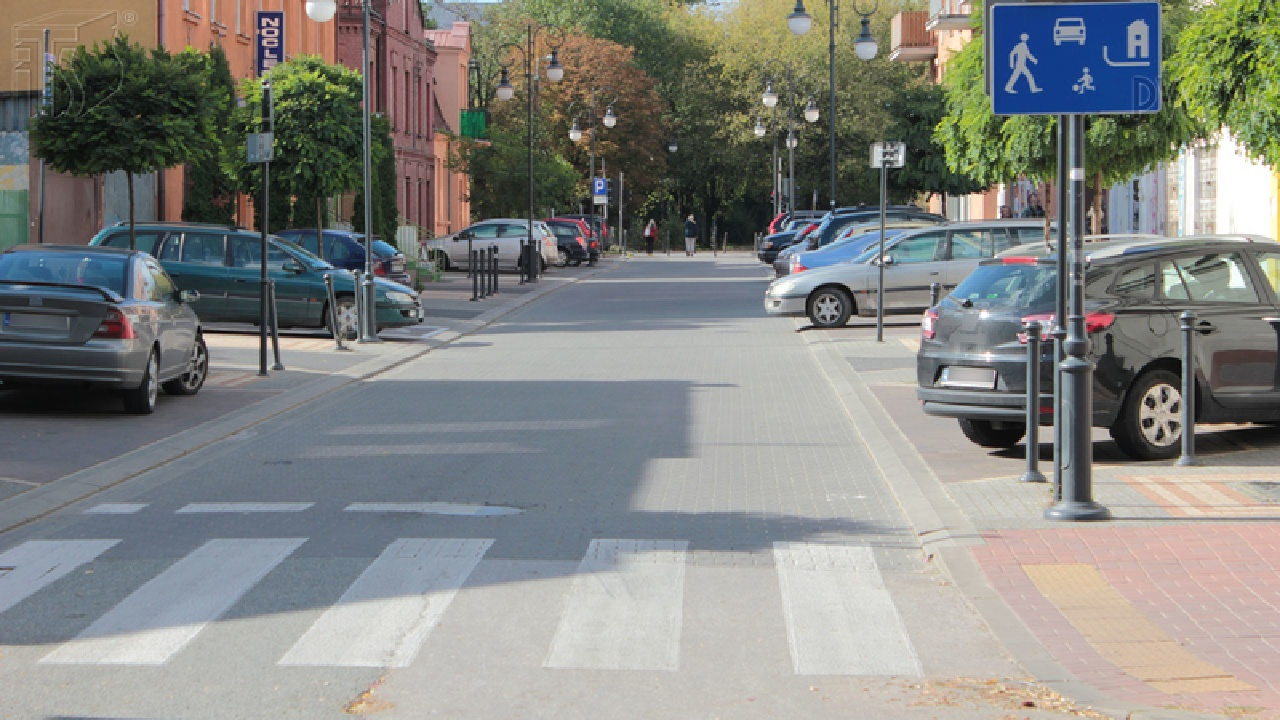D40: (984, 1, 1164, 114)
